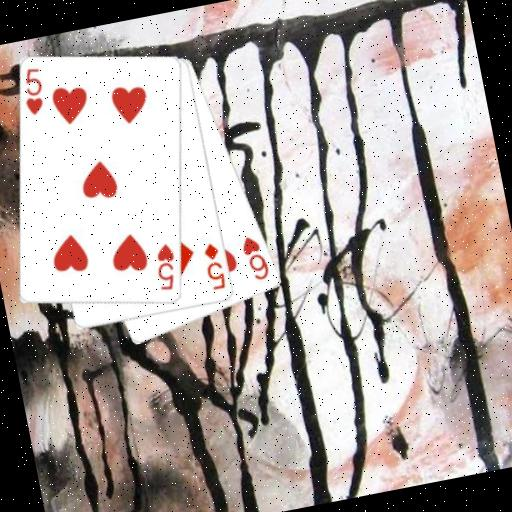5D: (199, 240, 229, 293)
5H: (149, 240, 183, 294), (17, 64, 50, 119)
6H: (238, 231, 274, 285)
